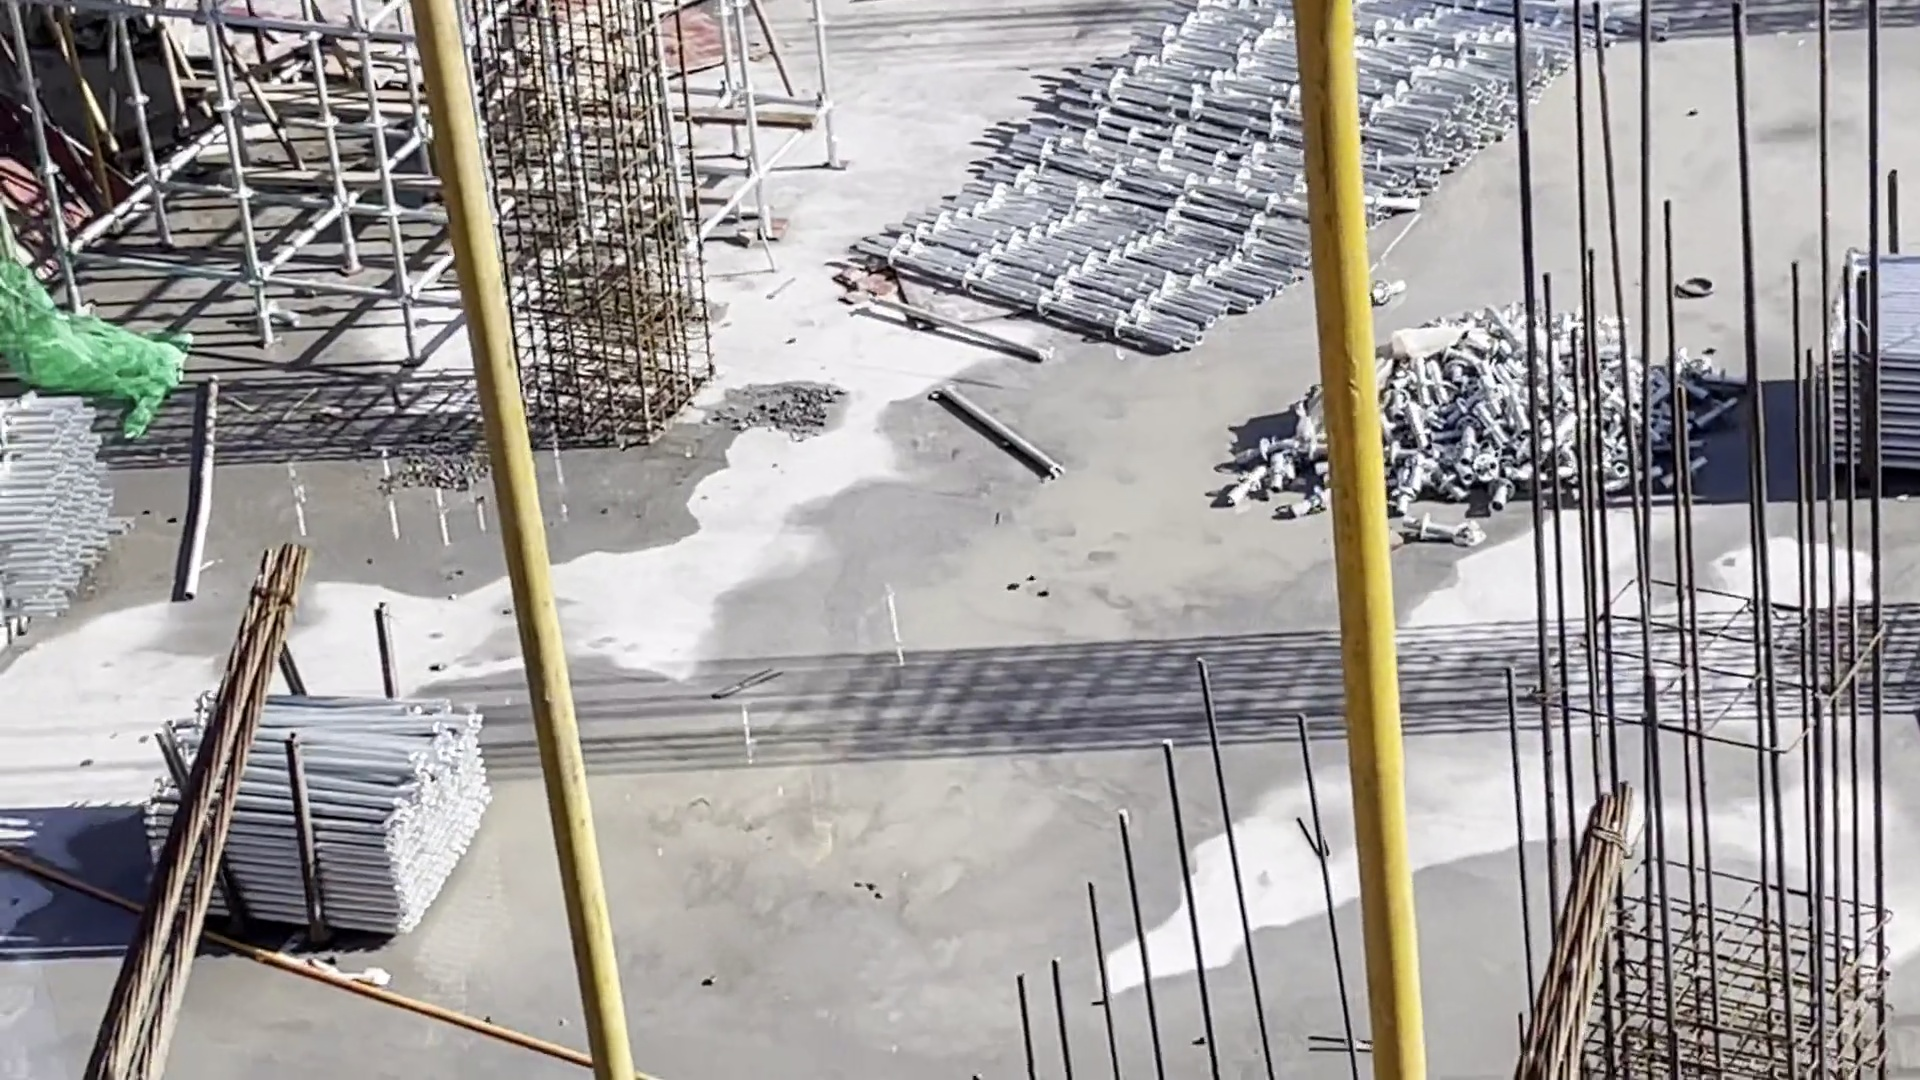scaffold: (861, 4, 1625, 357), (146, 674, 489, 934), (1825, 244, 1920, 465)
